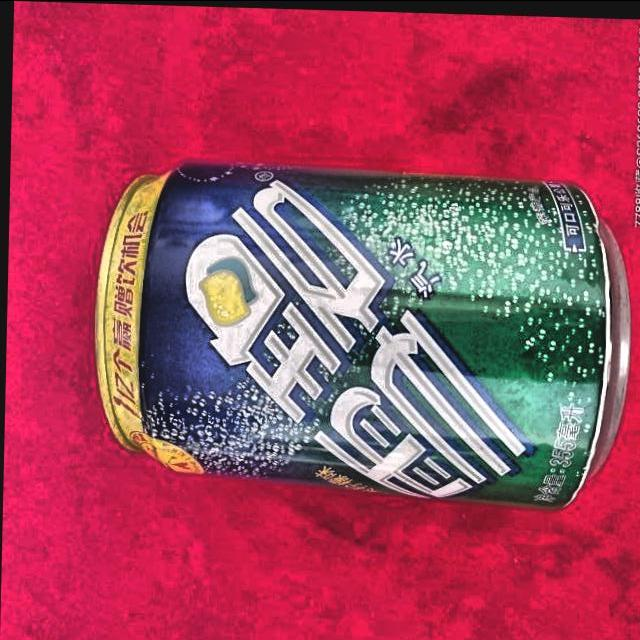Aluminum Can: (79, 149, 640, 518)
